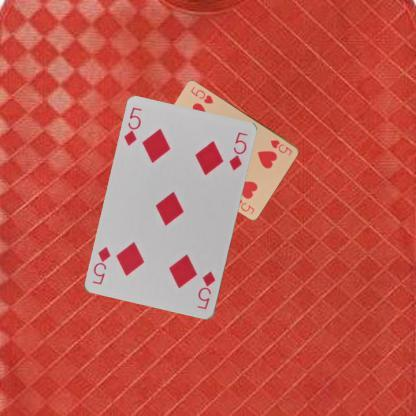5d: (194, 269, 218, 311), (121, 104, 144, 147)
5h: (268, 137, 294, 157)
